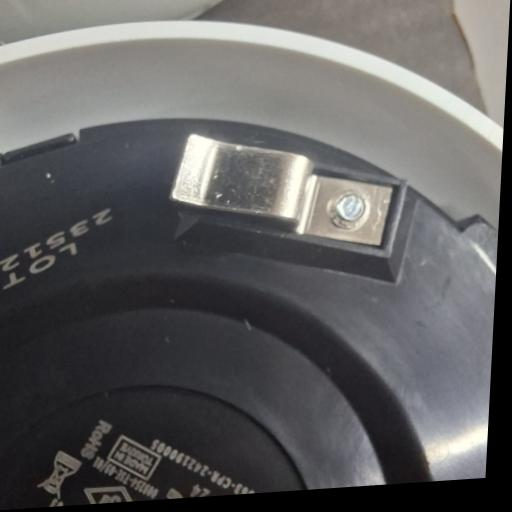yaysiz: (164, 117, 401, 261)
